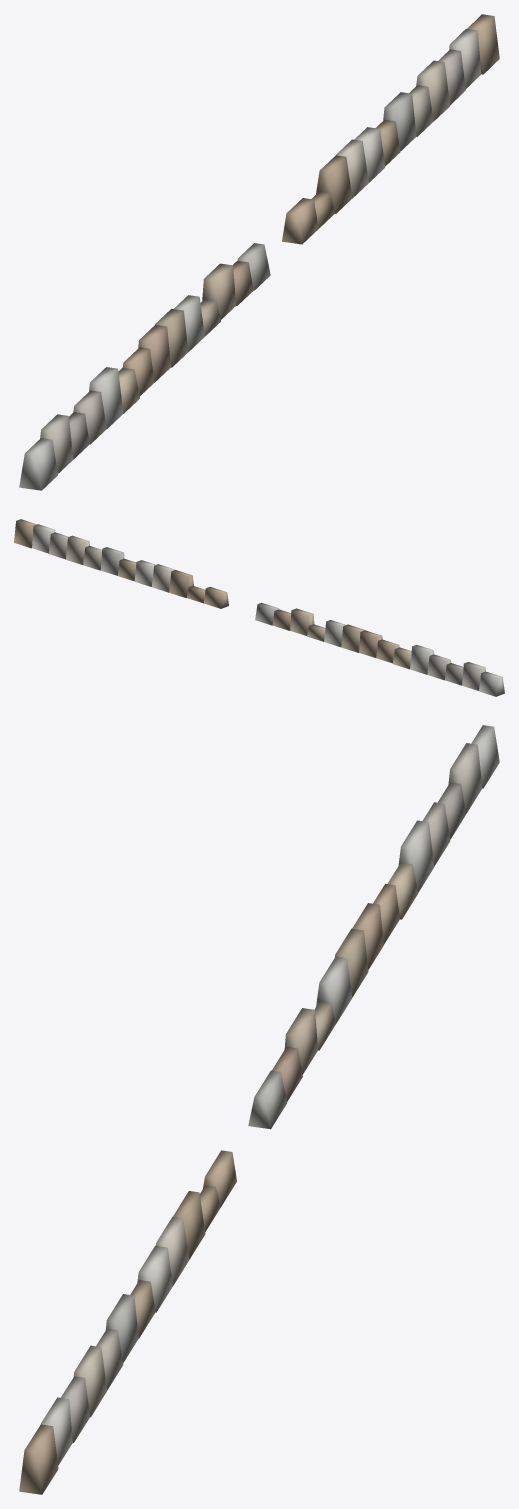
Rendered from farm_5_21_collision.glb.
3 renders of one model, top to bottom at view 1: azimuth 90°, elevation 25°; view 2: azimuth 150°, elevation 25°; view 3: azimuth 270°, elevation 25°, orthographic. The views are drawn at different scales.
Parts seen in each view (by area): view 1: geometry_0; view 2: geometry_0; view 3: geometry_0.
Boxes of the visible parts, x1,y1,x2,y2 form: geometry_0: (19, 14, 499, 490); geometry_0: (14, 519, 504, 696); geometry_0: (19, 725, 499, 1494).
Size of the model in its own units: 42.07 by 6.31 by 14.6.
